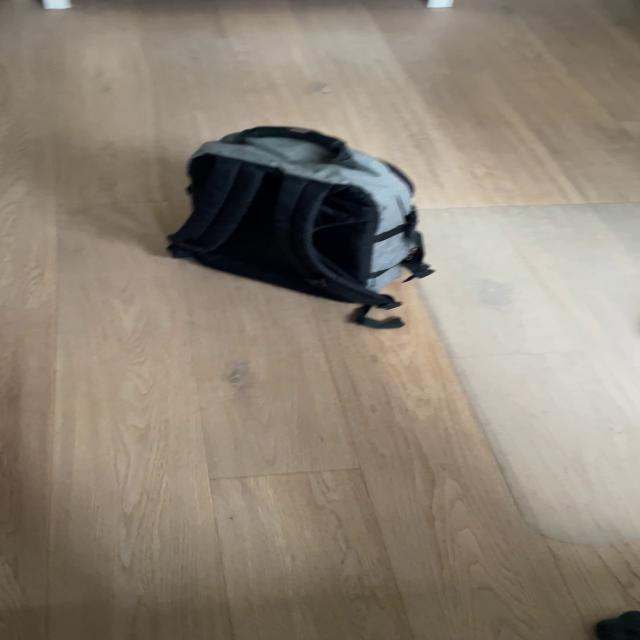backpack: (163, 119, 444, 307)
